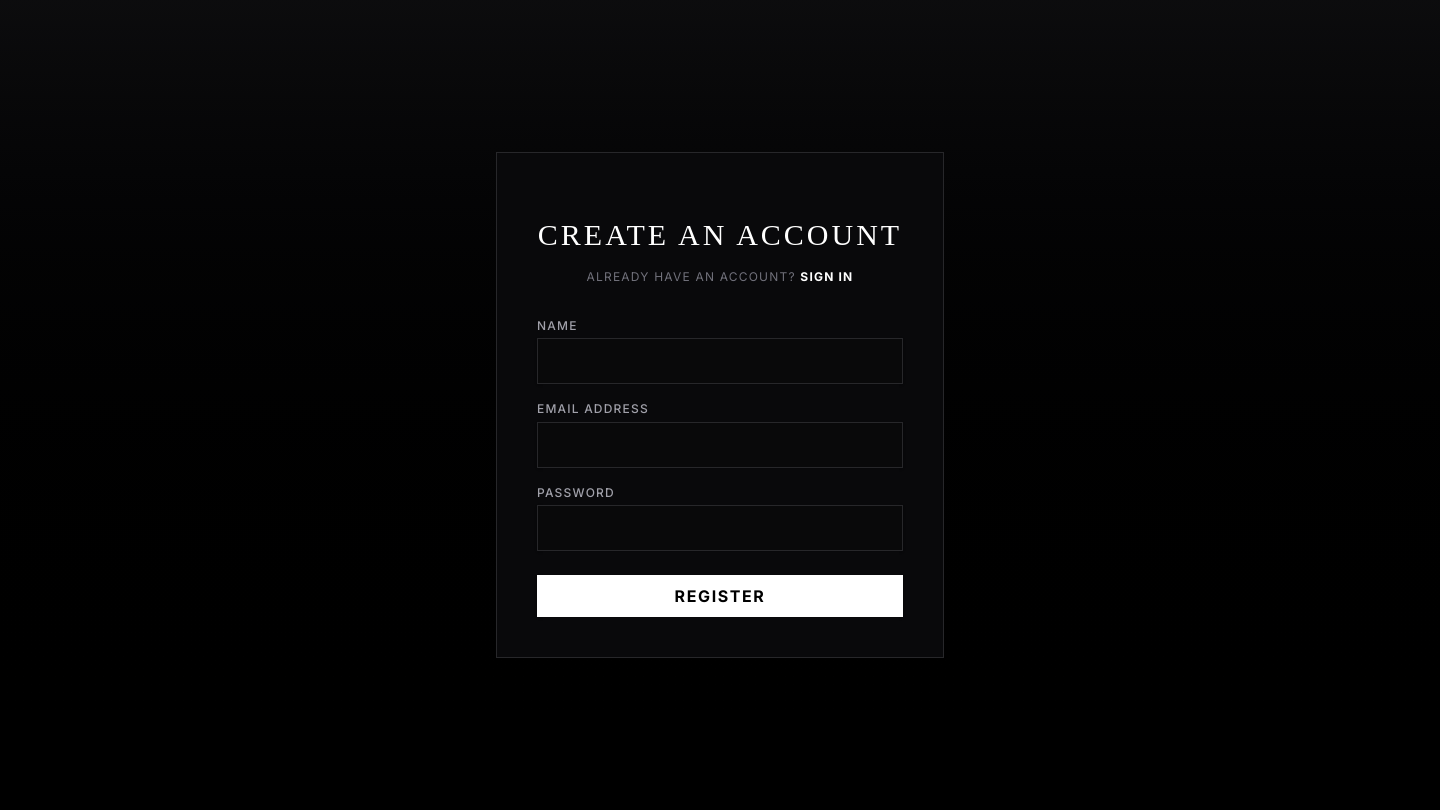
Test case: RegisterPage › displays server error toast on failure
Step 1. Type "John Doe" into the field labelled "Name" → (720, 361), box top-left (537, 338), bottom-right (903, 384)
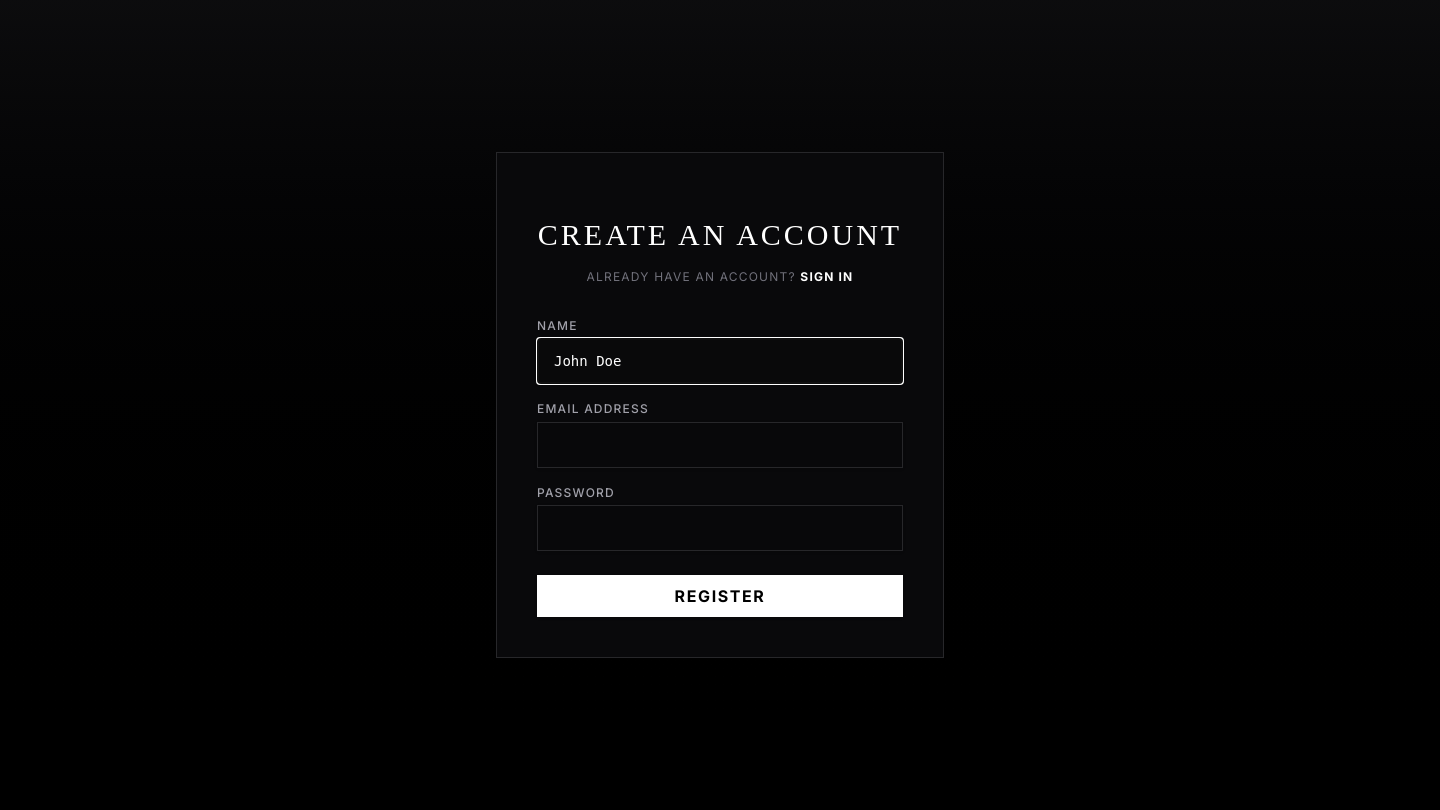
Step 2. Type "admin@dealership.com" into the field labelled "Email address" → (720, 445), box top-left (537, 422), bottom-right (903, 468)
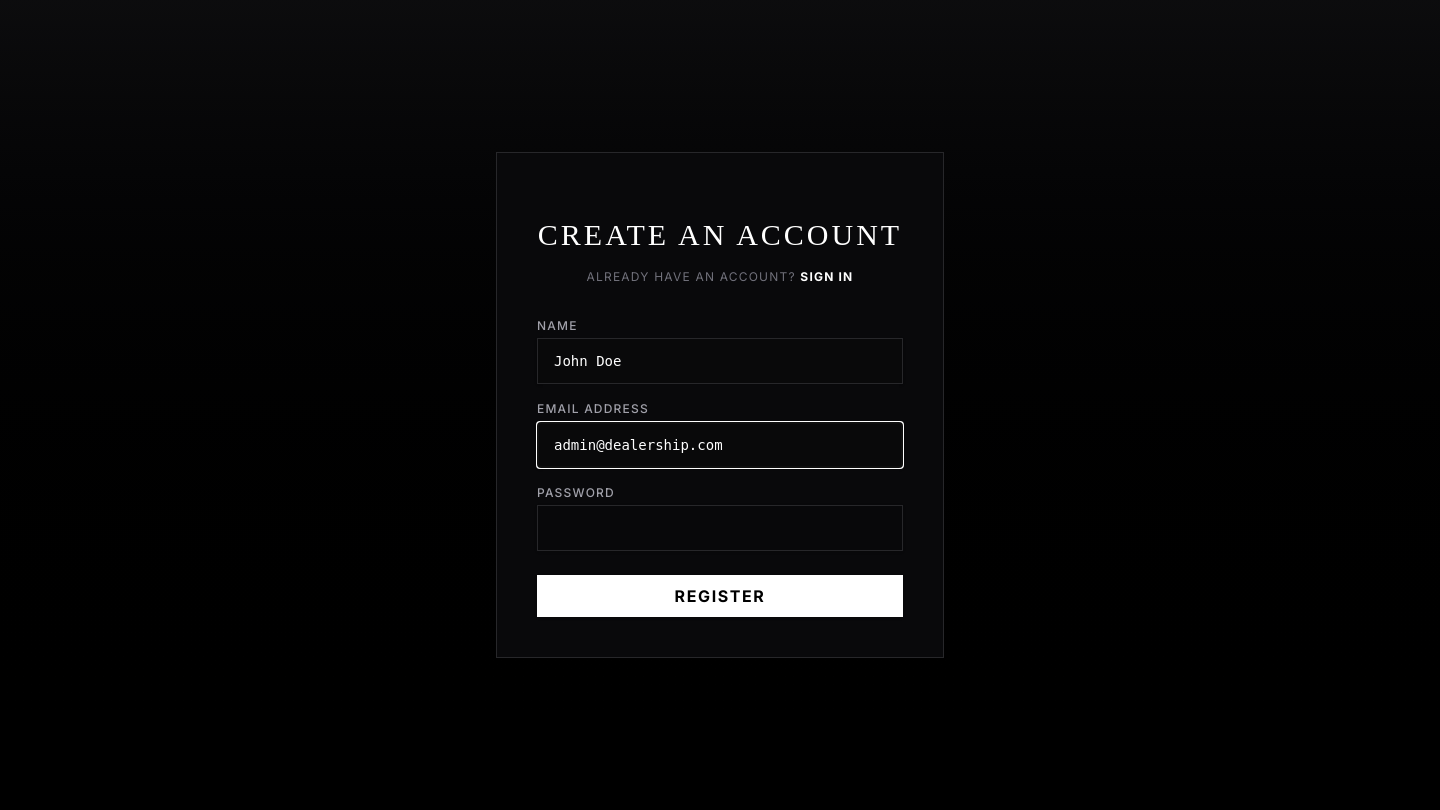
Step 3. Type "password123" into the password field labelled "Password" → (720, 528), box top-left (537, 505), bottom-right (903, 551)
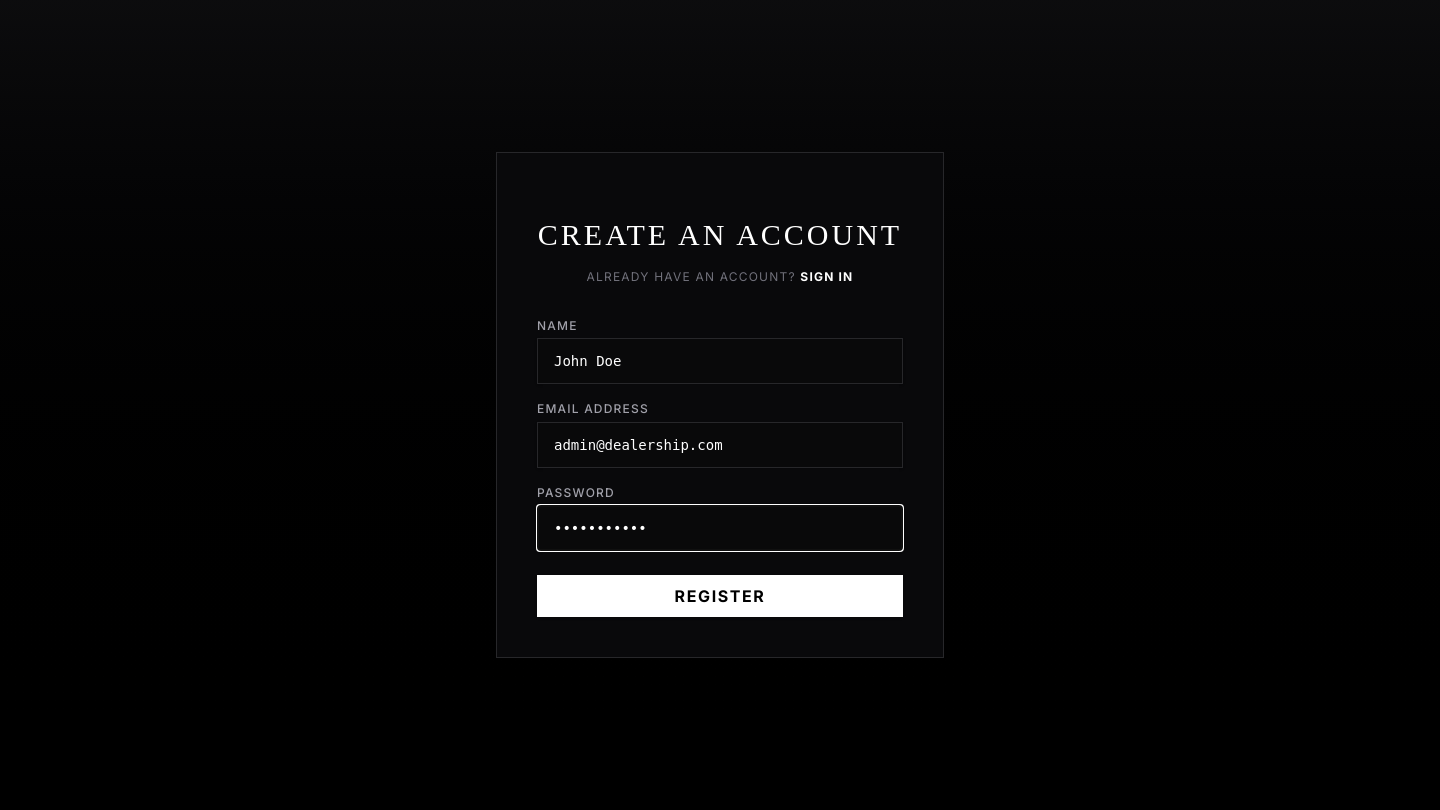
Step 4. Click the button "Register" → (720, 596), box top-left (537, 575), bottom-right (903, 617)
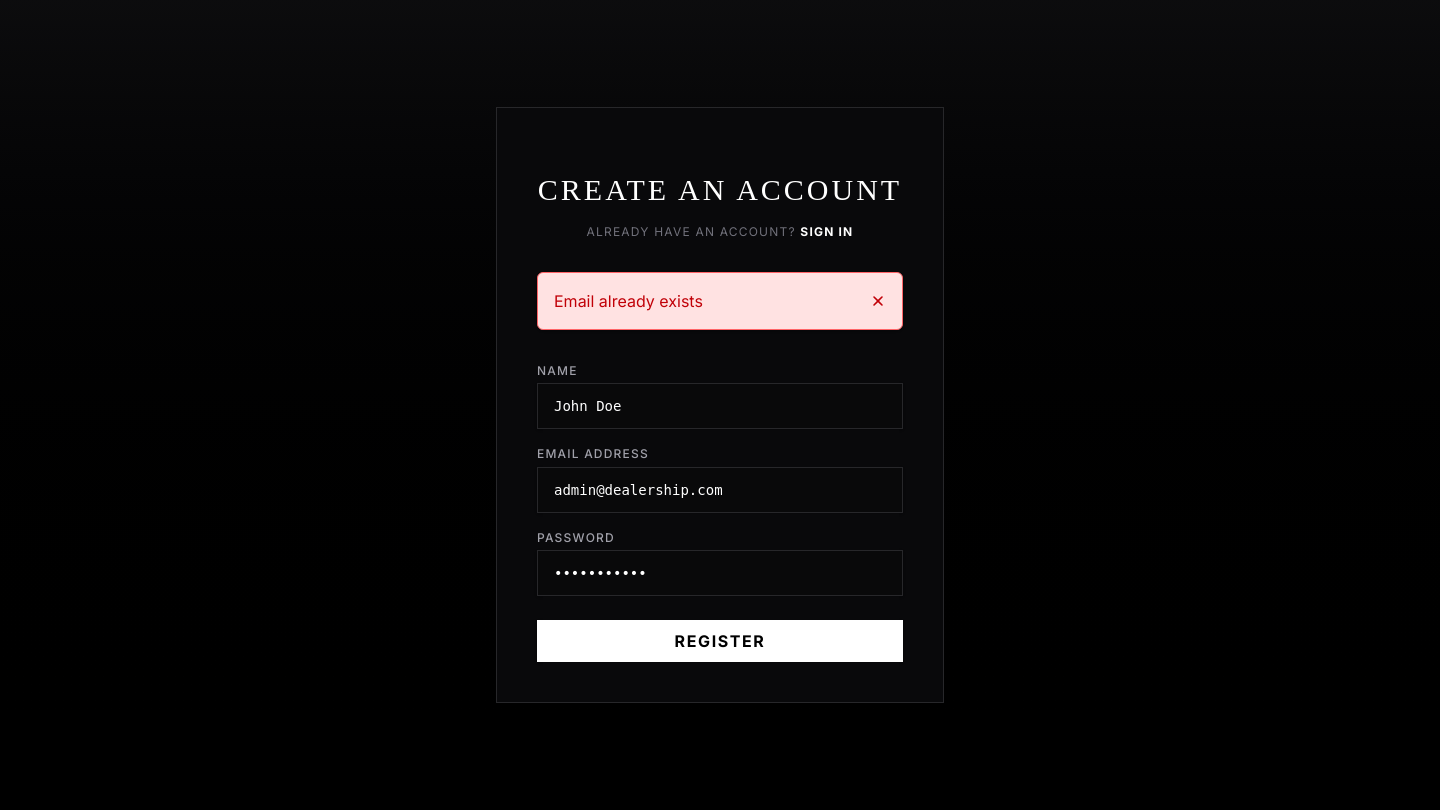
Now the text "Email already exists" is shown, box top-left (554, 289), bottom-right (703, 313)
